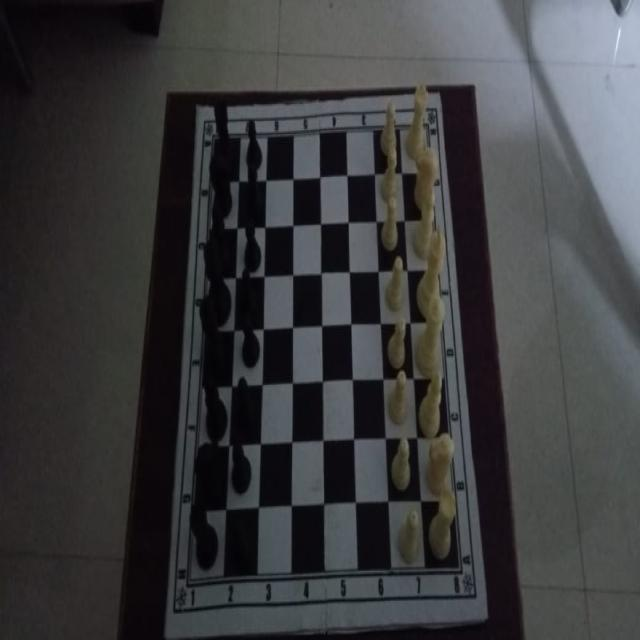corners: (483, 598, 493, 624), (193, 98, 204, 121), (432, 84, 443, 106), (162, 630, 167, 640)
